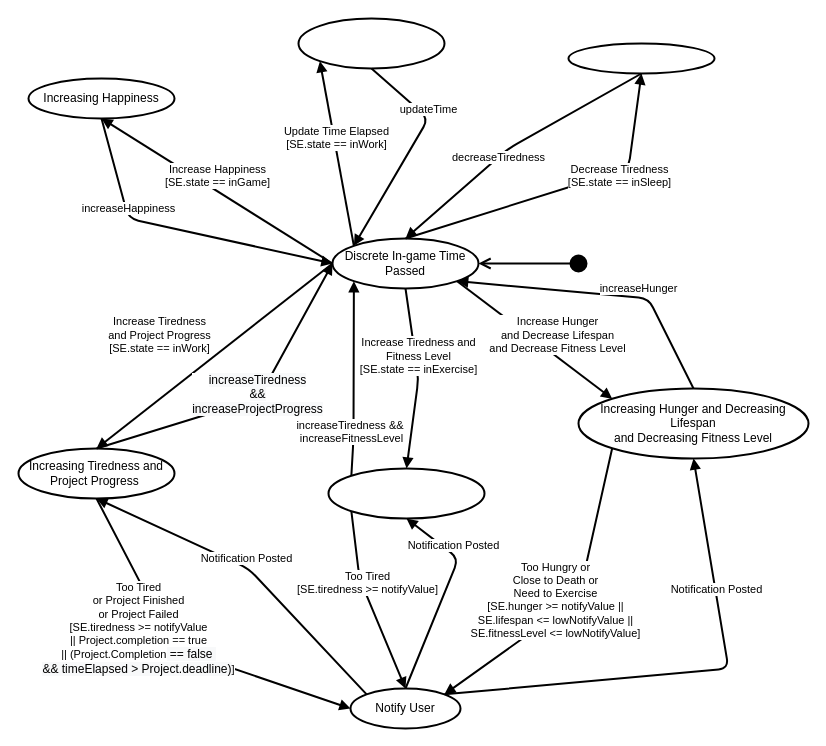
Image size: 826x746. Some labels were removed from this diagram. Each missing label, with the centre of its shape:
Decreasing Tiredness: the point at 641,58
Increasing Tiredness and Fitness Level: the point at 406,493
Updating Time Elapsed: the point at 371,43
